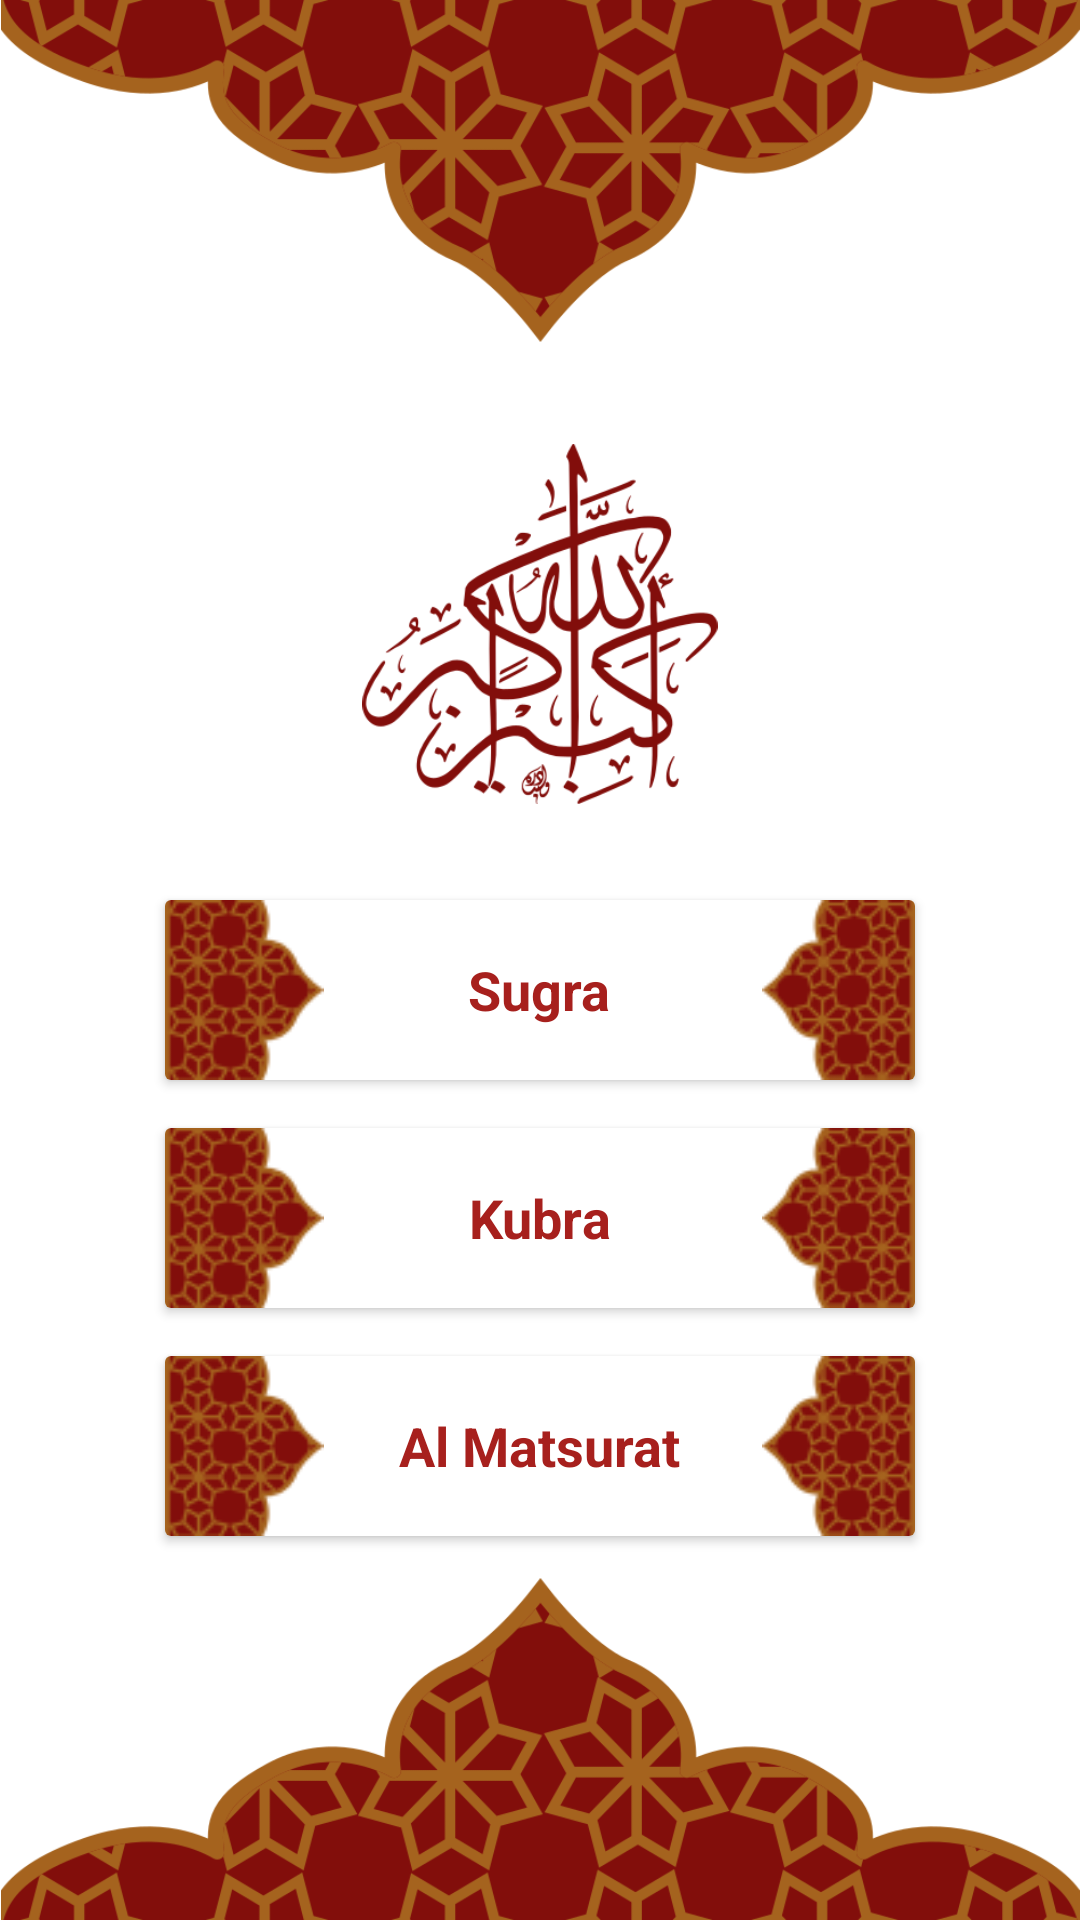

Where icons sit on this 1080x1920 app screen, as {"left": x1, "top": y1, "right": x2, "bottom": y2}:
left side: {"left": 165, "top": 900, "right": 324, "bottom": 1080}, {"left": 165, "top": 1128, "right": 324, "bottom": 1308}, {"left": 165, "top": 1356, "right": 324, "bottom": 1536}
right side: {"left": 762, "top": 900, "right": 915, "bottom": 1080}, {"left": 762, "top": 1128, "right": 915, "bottom": 1308}, {"left": 762, "top": 1356, "right": 915, "bottom": 1536}
